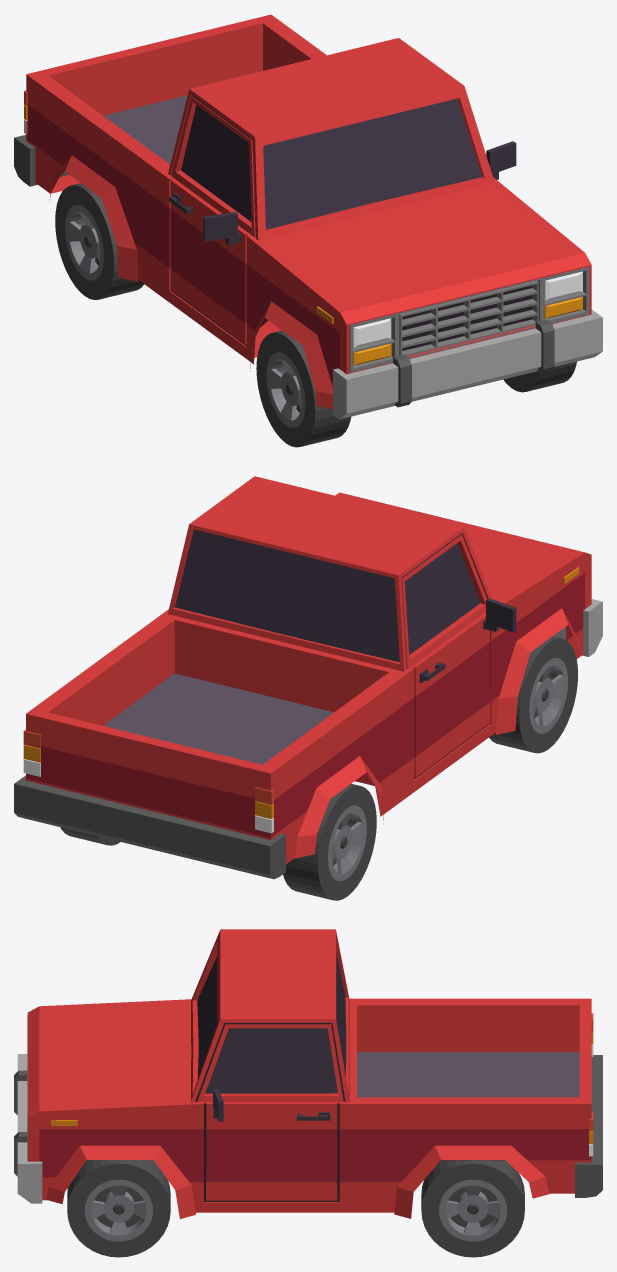
File: PickUp Truck Vermelho2.fbx
3 renders of one model, top to bottom at view 1: azimuth 30°, elevation 25°; view 2: azimuth 150°, elevation 25°; view 3: azimuth 270°, elevation 25°, orthographic. The views are drawn at different scales.
Visible parts, largest first — view 1: Car; view 2: Car; view 3: Car.
Part boxes in pixels (x1,y1,x2,y2): Car: (14,14,602,447); Car: (14,476,602,900); Car: (14,929,602,1257).
Bounding box in the file's own units: 806 × 637 × 1501.
